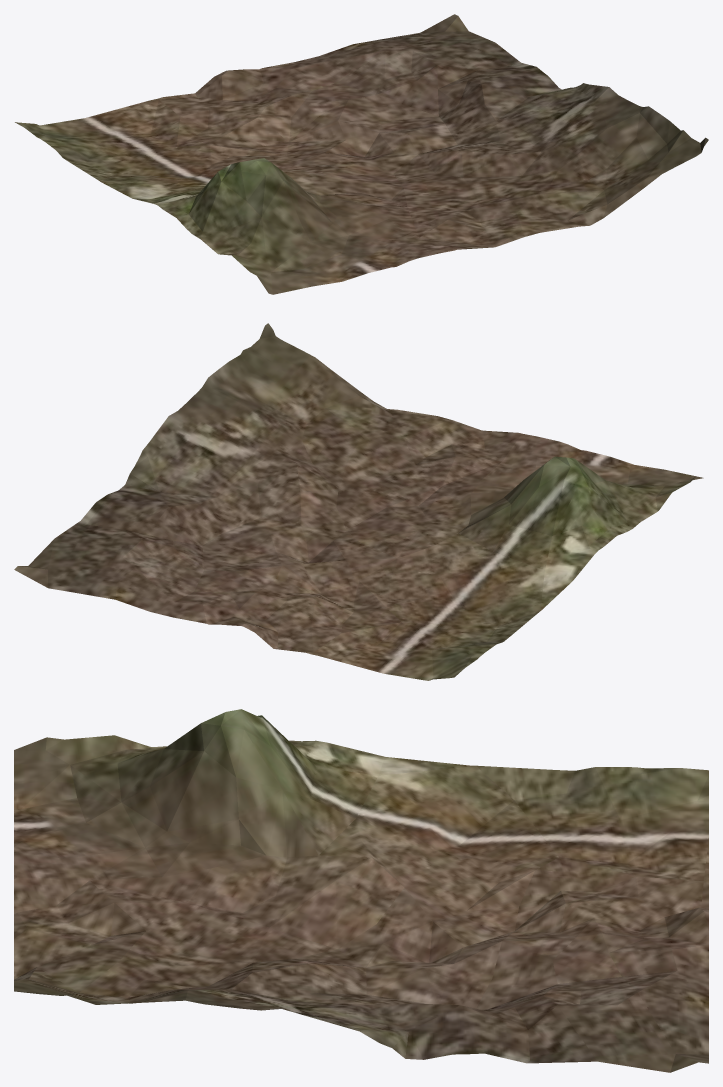
The picture shows the model from 3 angles, top to bottom: view 1: azimuth 30°, elevation 25°; view 2: azimuth 150°, elevation 25°; view 3: azimuth 270°, elevation 25°; orthographic projection. The views are drawn at different scales.
Size of the model in its own units: 2.95 by 0.6089 by 2.95.
3 materials, 3 textured.
